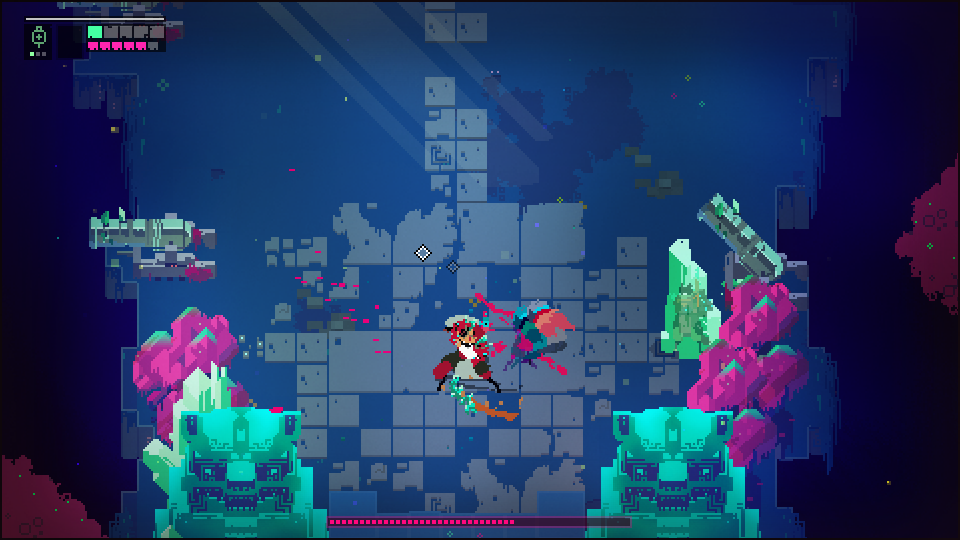hanged_man: (431, 315, 506, 412)
player: (527, 299, 579, 352)
